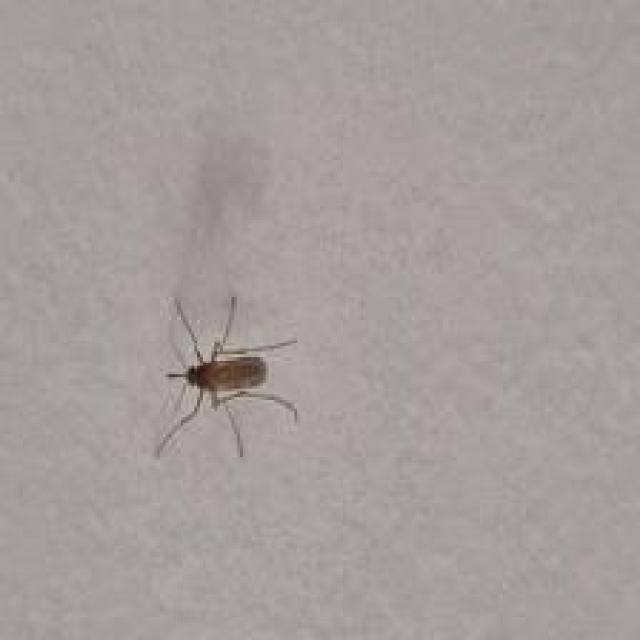Culex: (153, 293, 298, 458)
